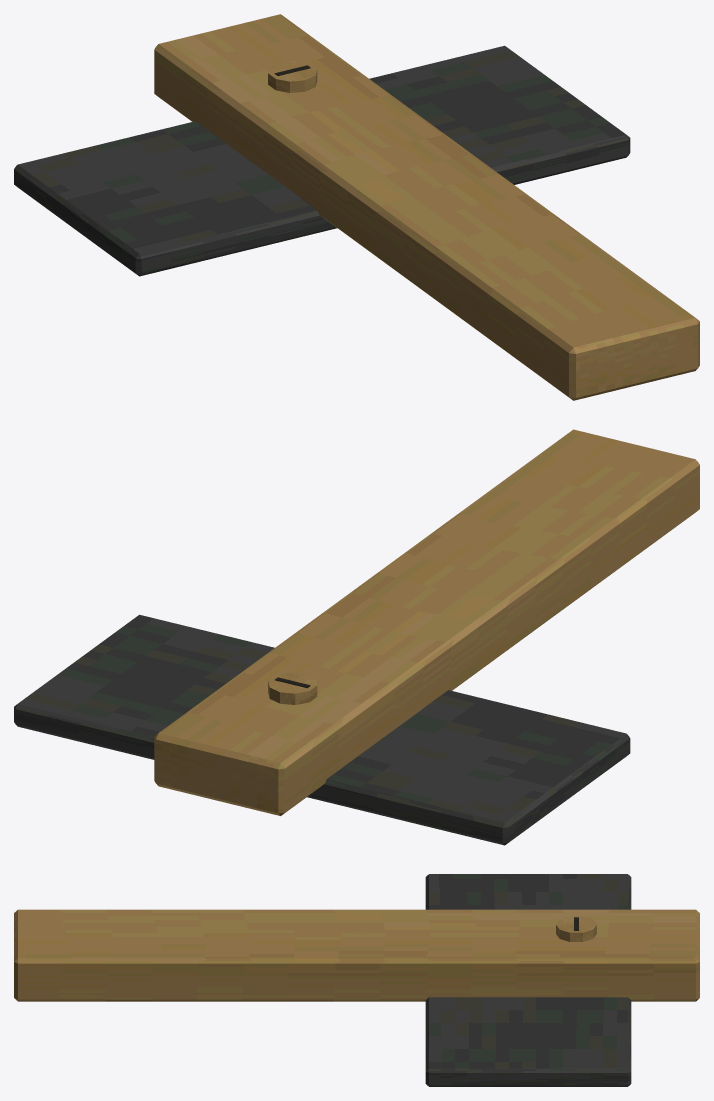
Rendered from sounder_armature.glb.
3 renders of one model, top to bottom at view 1: azimuth 30°, elevation 25°; view 2: azimuth 150°, elevation 25°; view 3: azimuth 270°, elevation 25°, orthographic. The views are drawn at different scales.
Parts seen in each view (by area): view 1: sounder_armature; view 2: sounder_armature; view 3: sounder_armature.
Part boxes in pixels (bbox=[...]): sounder_armature: bbox=[14, 14, 699, 400]; sounder_armature: bbox=[14, 429, 699, 845]; sounder_armature: bbox=[14, 874, 699, 1086].
Size of the model in its own units: 0.068 by 0.0106 by 0.1.
3 materials, 3 textured.
